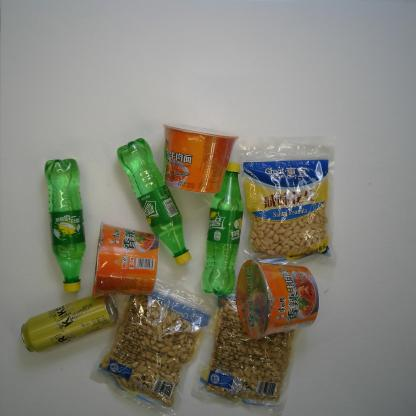Alcohol: (19, 291, 121, 356)
Dried Fruit: (87, 273, 217, 416), (193, 269, 313, 415), (234, 135, 340, 272)
Drink: (116, 136, 192, 268), (42, 154, 88, 295), (200, 159, 246, 297)
Instant Noodles: (236, 258, 320, 342), (159, 120, 240, 194), (87, 219, 161, 299)
